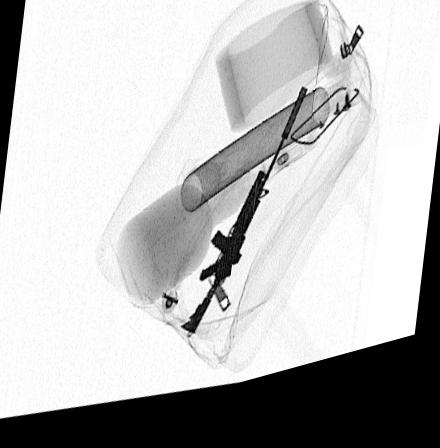Gun: (177, 104, 308, 349)
